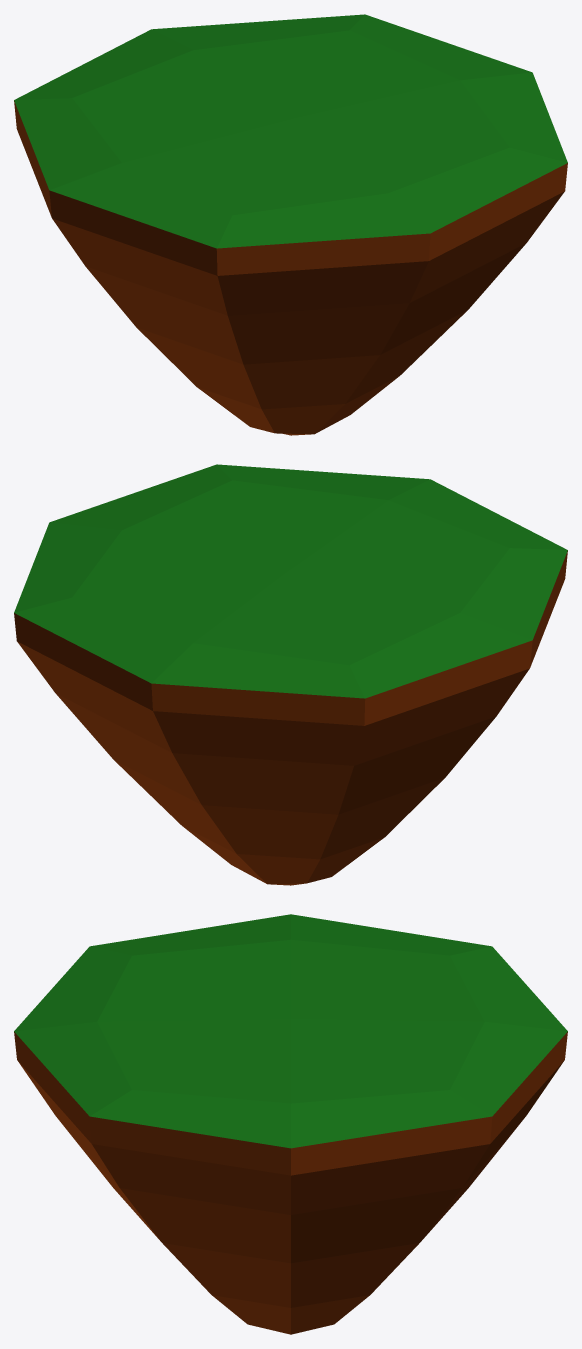
File: Island.fbx
3 views of the same model, one above another, from view 1: azimuth 30°, elevation 25°; view 2: azimuth 150°, elevation 25°; view 3: azimuth 270°, elevation 25° (orthographic).
Visible parts, largest first — view 1: Cube; view 2: Cube; view 3: Cube.
Part boxes in pixels (x1=…): Cube: x1=14, y1=14, x2=567, y2=435; Cube: x1=14, y1=464, x2=567, y2=885; Cube: x1=14, y1=914, x2=567, y2=1334.
Size of the model in its own units: 4625 by 2893 by 4625.
